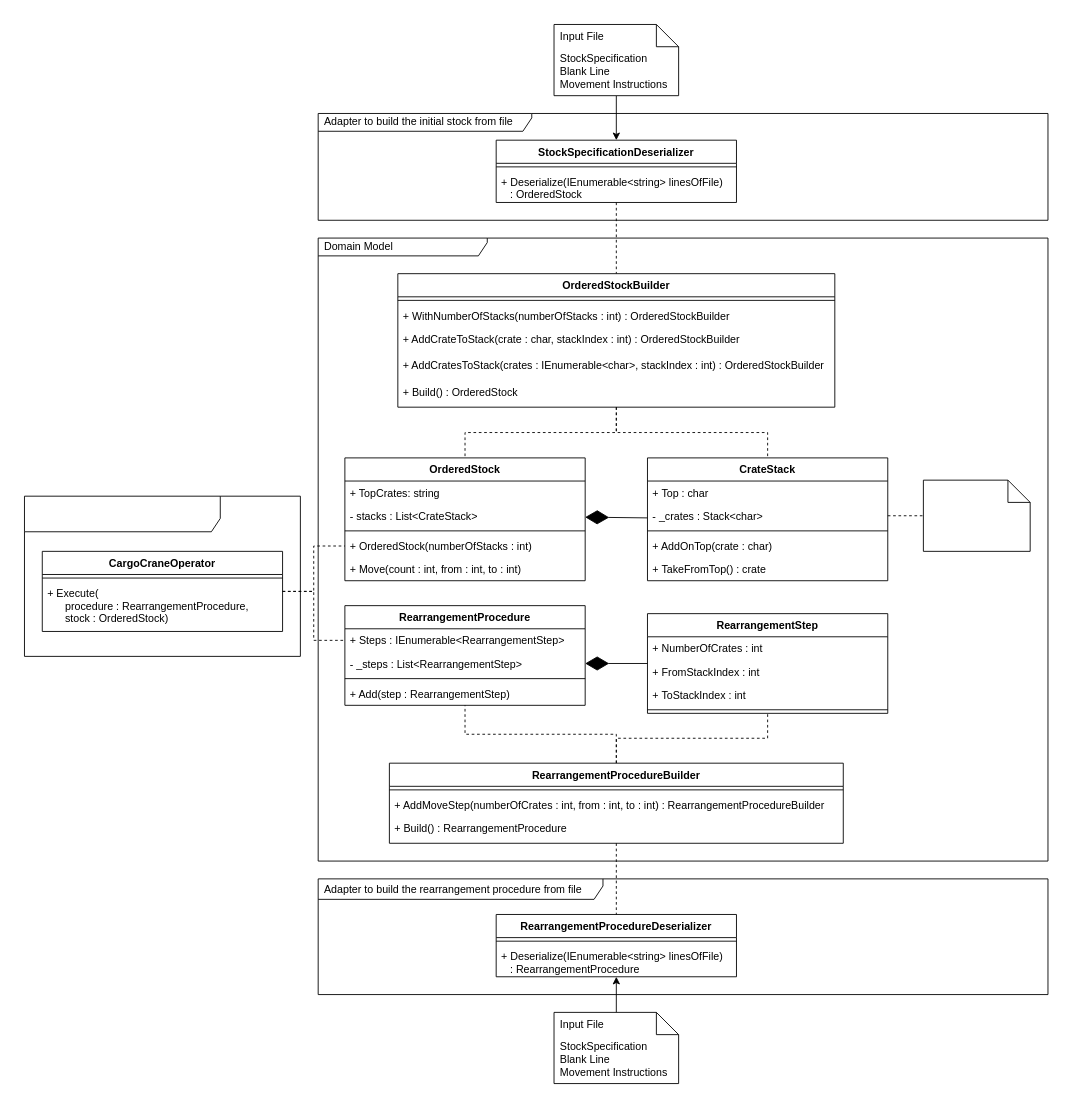
This 1072x1107 diagram has some shape labels left out. Here are the shapes that lost their labels. From the top down, the centre of each, then its label:
(976,515): A crate has the type "char".
(162,575): Service to execute the rearrangement procedure on the stock
